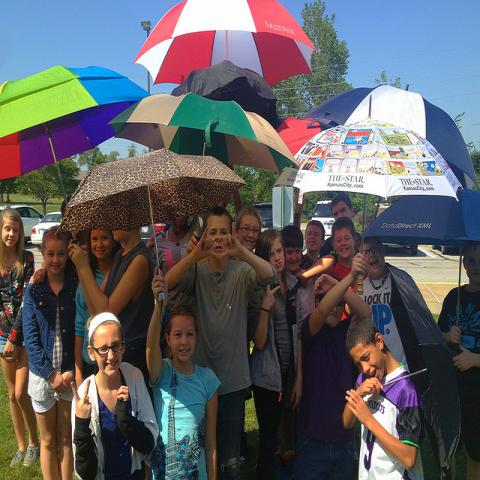car: (10, 204, 45, 243), (30, 212, 61, 250), (310, 197, 336, 238), (140, 222, 171, 244), (253, 201, 273, 232), (432, 244, 461, 254)
